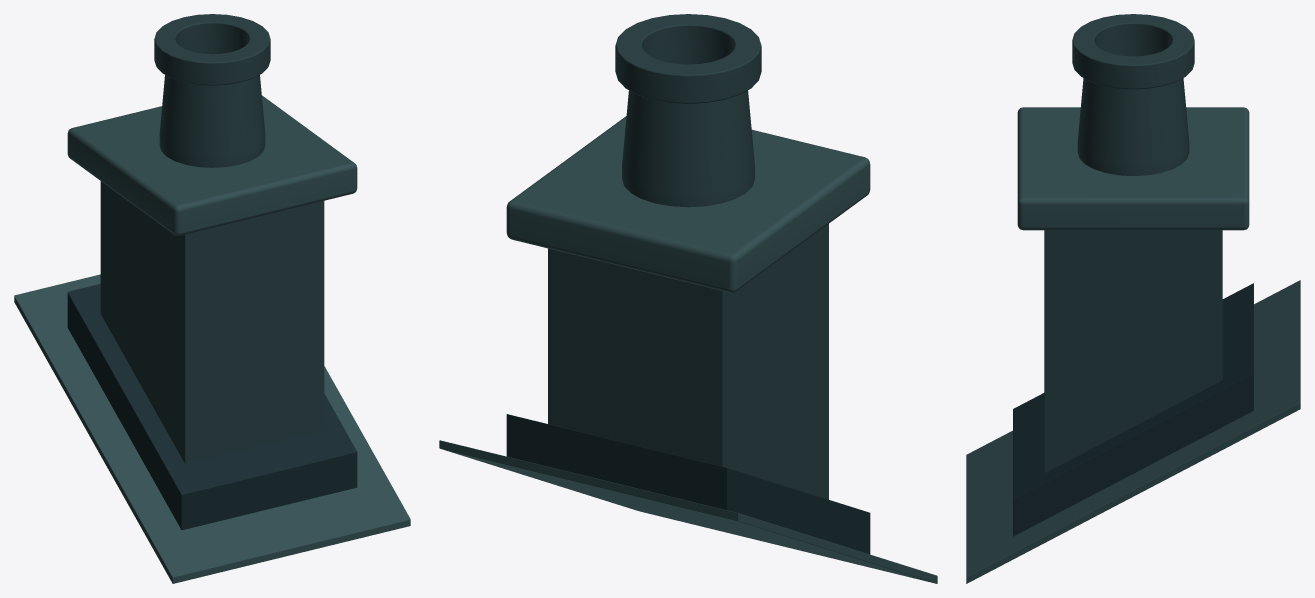
File: city_roof_details_04.glb
3 views of the same model, side by side, from view 1: azimuth 30°, elevation 25°; view 2: azimuth 150°, elevation 25°; view 3: azimuth 270°, elevation 25° (orthographic). The views are drawn at different scales.
Visible parts, largest first — view 1: CityRoofDetails04_Mesh; view 2: CityRoofDetails04_Mesh; view 3: CityRoofDetails04_Mesh.
Part boxes in pixels (left/top/right/bottom): CityRoofDetails04_Mesh: left=14, top=14, right=410, bottom=583; CityRoofDetails04_Mesh: left=439, top=14, right=937, bottom=583; CityRoofDetails04_Mesh: left=966, top=14, right=1300, bottom=583.
Size of the model in its own units: 1.3 by 2.39 by 1.5.
